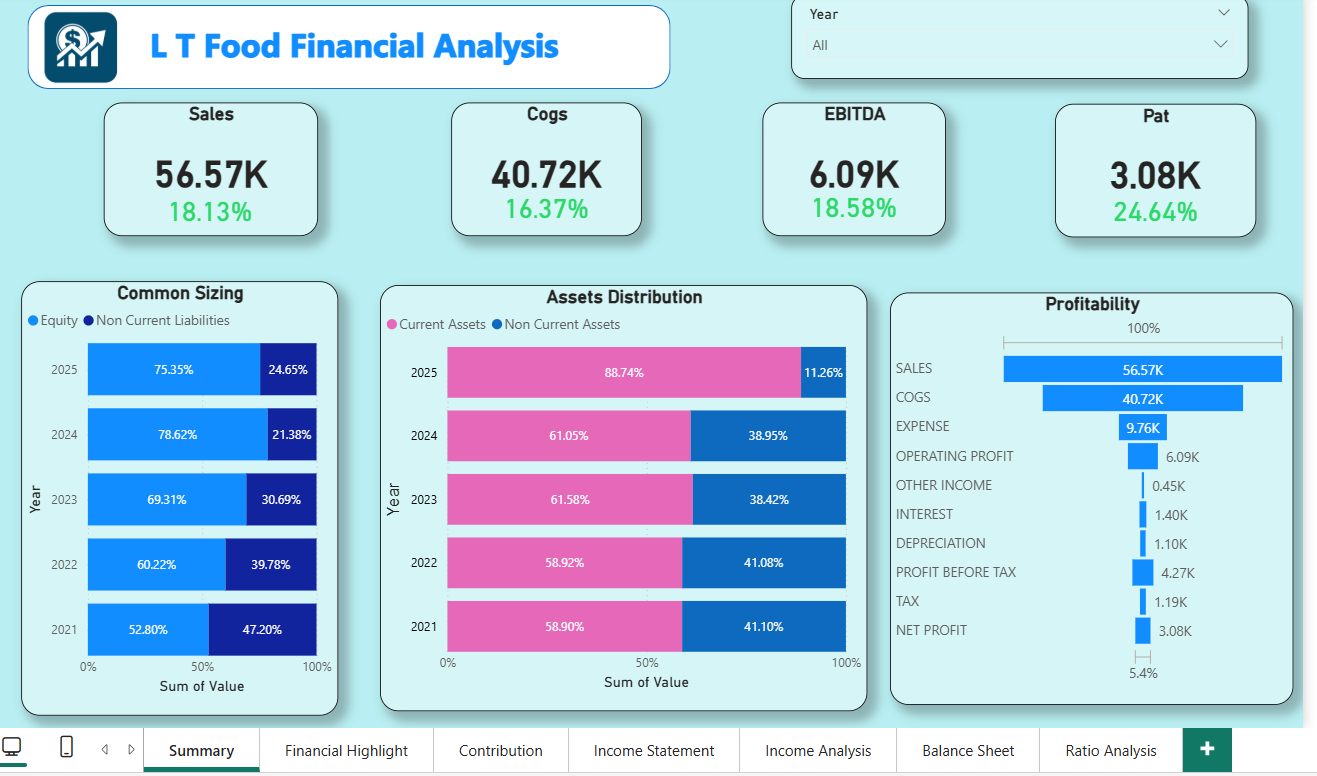

What the dashboard file says about the page in this screenshot:
{"tool":"powerbi","page":{"name":"Summary ","canvas":[1280,720],"ordinal":0},"visuals":[{"type":"shape","box":[27.5,10,631.2,82.5],"z":0},{"type":"image","box":[37.5,10,82.5,82.5],"z":1000},{"type":"card","title":"Sales","fields":{"Values":["Sum(P&L Fact.Value )"]},"box":[101.2,105,210,131.2],"z":2000},{"type":"slicer","fields":{"Values":["Date Dim.Date .Variation.Date Hierarchy.Year"]},"box":[776.2,0,448.8,82.5],"z":3000},{"type":"card","title":"Cogs","fields":{"Values":["Sum(P&L Fact.Value )"]},"box":[442.5,105,187.5,131.2],"z":4000},{"type":"card","title":"EBITDA","fields":{"Values":["Sum(P&L Fact.Value )"]},"box":[748.8,105,180,131.2],"z":5000},{"type":"card","title":"Pat","fields":{"Values":["Sum(P&L Fact.Value )"]},"box":[1035,106.2,197.5,131.2],"z":6000},{"type":"card","fields":{"Values":["P&L Fact.% Change"]},"box":[123.8,171.2,163.8,78.8],"z":7000},{"type":"card","fields":{"Values":["P&L Fact.% Change"]},"box":[741.2,177.5,193.8,58.8],"z":8000},{"type":"card","fields":{"Values":["P&L Fact.% Change"]},"box":[1042.5,185,182.5,51.2],"z":9000},{"type":"card","fields":{"Values":["P&L Fact.% Change"]},"box":[441.2,182.5,188.8,50],"z":10000},{"type":"hundredPercentStackedBarChart","title":"Assets Distribution ","fields":{"Category":["Date Dim.Date .Variation.Date Hierarchy.Year"],"Y":["Sum(BS_Fact.Value)"],"Series":["BS_Fact.BS_Group_Head"]},"box":[372.5,285,478.8,418.8],"z":11000},{"type":"hundredPercentStackedBarChart","title":"Common Sizing ","fields":{"Category":["Date Dim.Date .Variation.Date Hierarchy.Year"],"Y":["Sum(BS_Fact.Value)"],"Series":["BS_Fact.BS_Group_Head"]},"box":[21.2,281.2,311.2,426.2],"z":12000},{"type":"funnel","title":"Profitability","fields":{"Category":["P&L Dim.P&L Main_Head"],"Y":["Sum(P&L Fact.Value )"]},"box":[873.8,292.5,396.2,405],"z":13000},{"type":"textbox","box":[142.5,22.5,491.2,60],"z":14000}]}

Visuals, with their boxes on the page's 1280x720 design canvas (x1, y1, x2, y2). These are canvas units, not pixel positions in the 1317x776 screenshot, which may show the page scaled, cropped or inside an application window:
shape: (x1=28, y1=10, x2=659, y2=92)
image: (x1=38, y1=10, x2=120, y2=92)
"Sales" card: (x1=101, y1=105, x2=311, y2=236)
slicer - Date Dim.Date .Variation.Date Hierarchy.Year: (x1=776, y1=0, x2=1225, y2=82)
"Cogs" card: (x1=442, y1=105, x2=630, y2=236)
"EBITDA" card: (x1=749, y1=105, x2=929, y2=236)
"Pat" card: (x1=1035, y1=106, x2=1232, y2=237)
card - P&L Fact.% Change: (x1=124, y1=171, x2=288, y2=250)
card - P&L Fact.% Change: (x1=741, y1=178, x2=935, y2=236)
card - P&L Fact.% Change: (x1=1042, y1=185, x2=1225, y2=236)
card - P&L Fact.% Change: (x1=441, y1=182, x2=630, y2=232)
"Assets Distribution " hundredPercentStackedBarChart: (x1=372, y1=285, x2=851, y2=704)
"Common Sizing " hundredPercentStackedBarChart: (x1=21, y1=281, x2=332, y2=707)
"Profitability" funnel: (x1=874, y1=292, x2=1270, y2=698)
textbox: (x1=142, y1=22, x2=634, y2=82)
